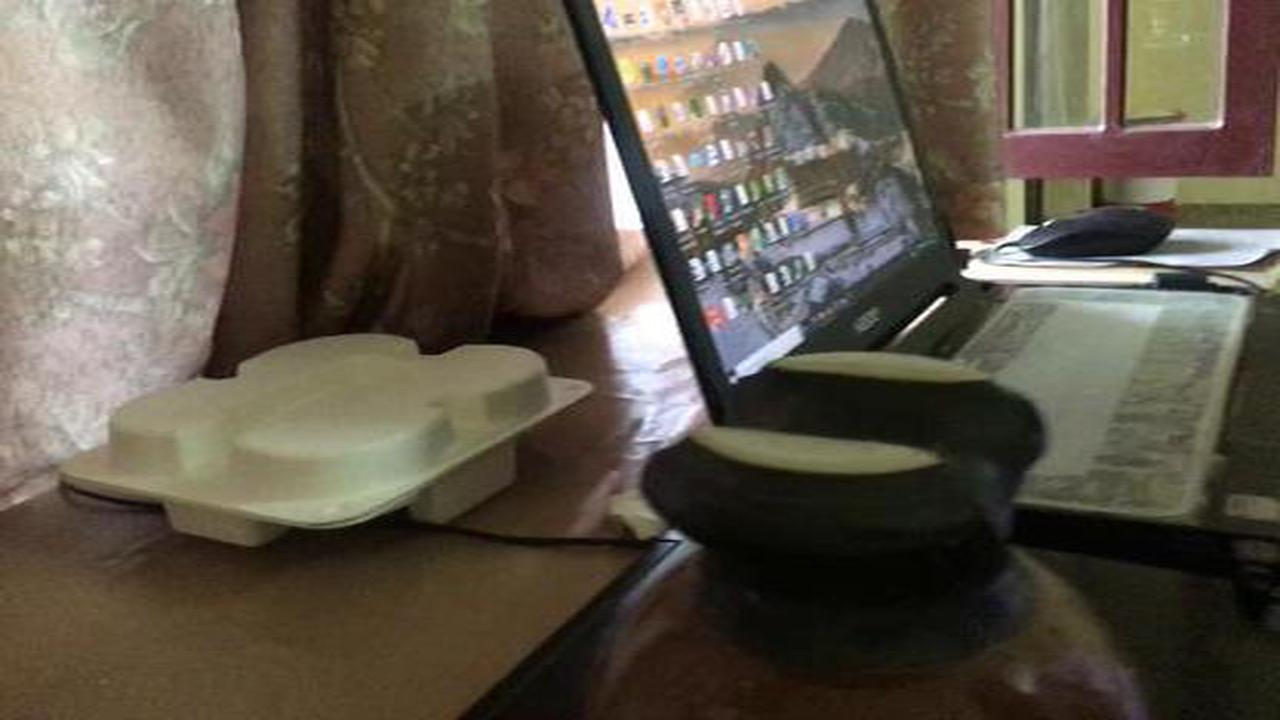insulator_pin: (551, 335, 1176, 717)
